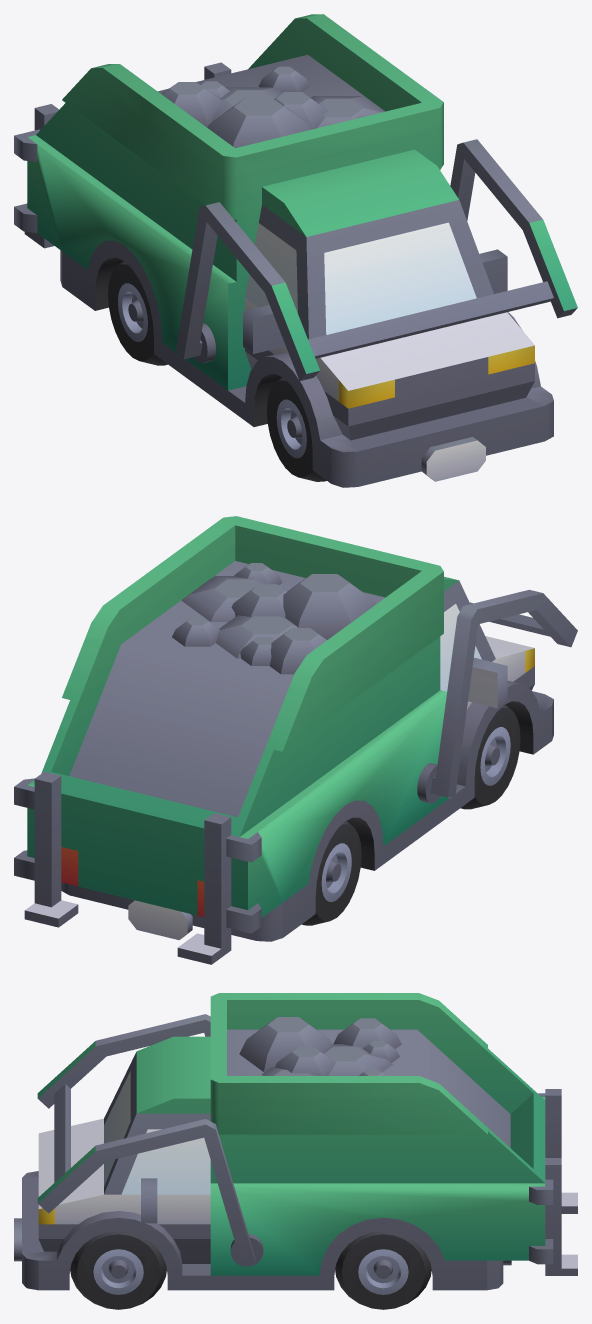
The model's file is garbage-truck.glb.
3 views of the same model, one above another, from view 1: azimuth 30°, elevation 25°; view 2: azimuth 150°, elevation 25°; view 3: azimuth 270°, elevation 25° (orthographic). The views are drawn at different scales.
Visible parts, largest first — view 1: arm; view 2: arm; view 3: arm.
Part boxes in pixels (x1,y1,x2,y2): arm: [14, 14, 577, 487]; arm: [14, 516, 577, 964]; arm: [14, 993, 577, 1309].
Bounding box in the file's own units: 1.6 × 1.6 × 3.45.
1 material, 1 textured.
